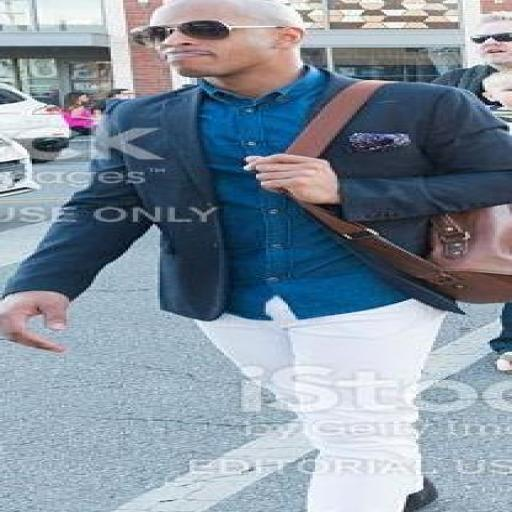person: (0, 0, 511, 511), (434, 12, 511, 106), (434, 12, 511, 104), (490, 304, 511, 372), (62, 93, 95, 135), (94, 88, 135, 116)
